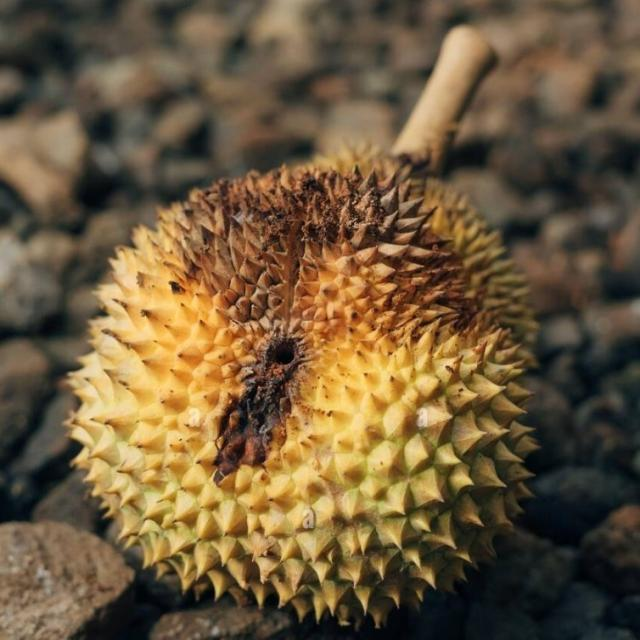defective: (56, 143, 545, 620)
